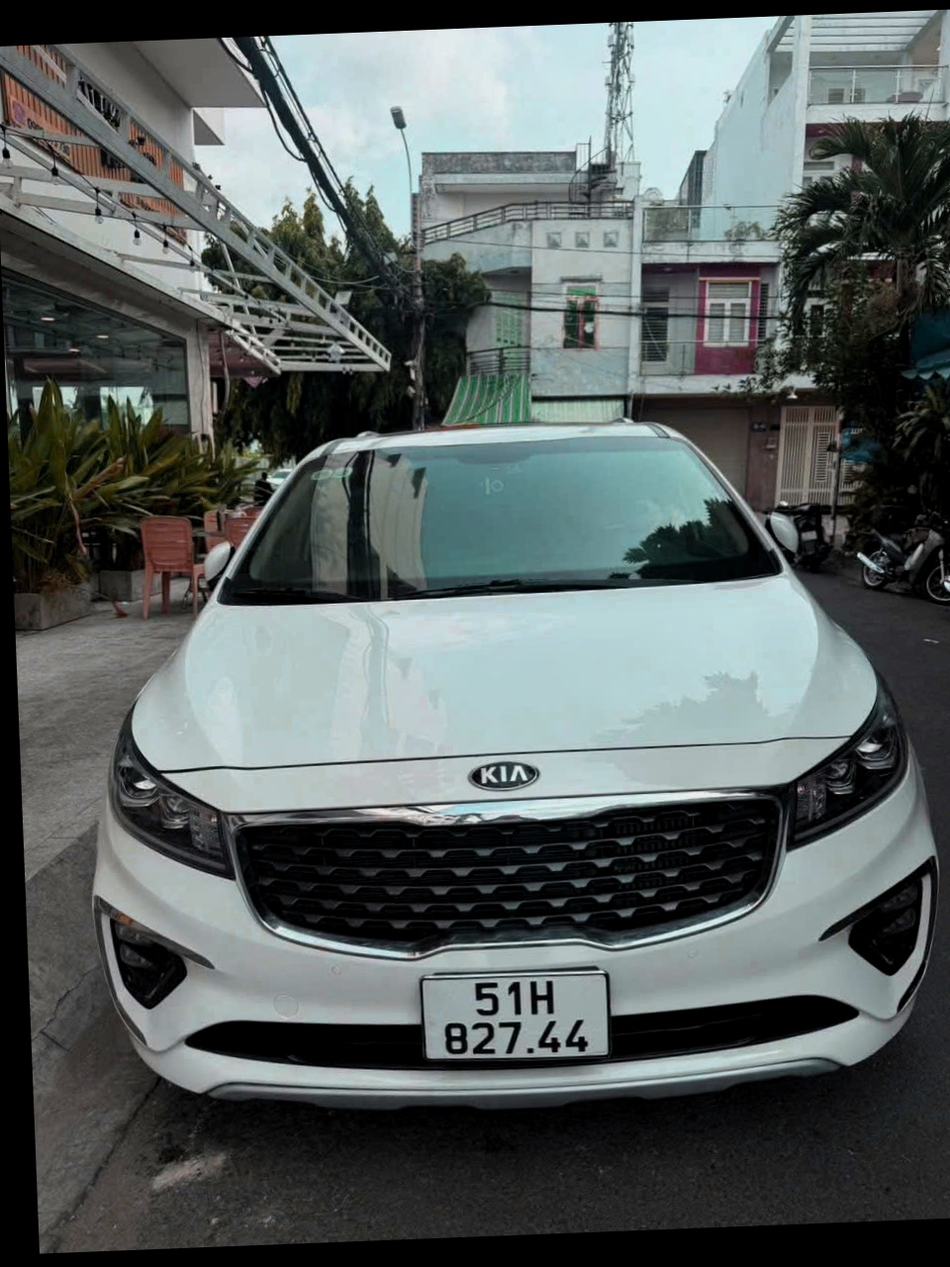Bien-so: (363, 984, 553, 1093)
